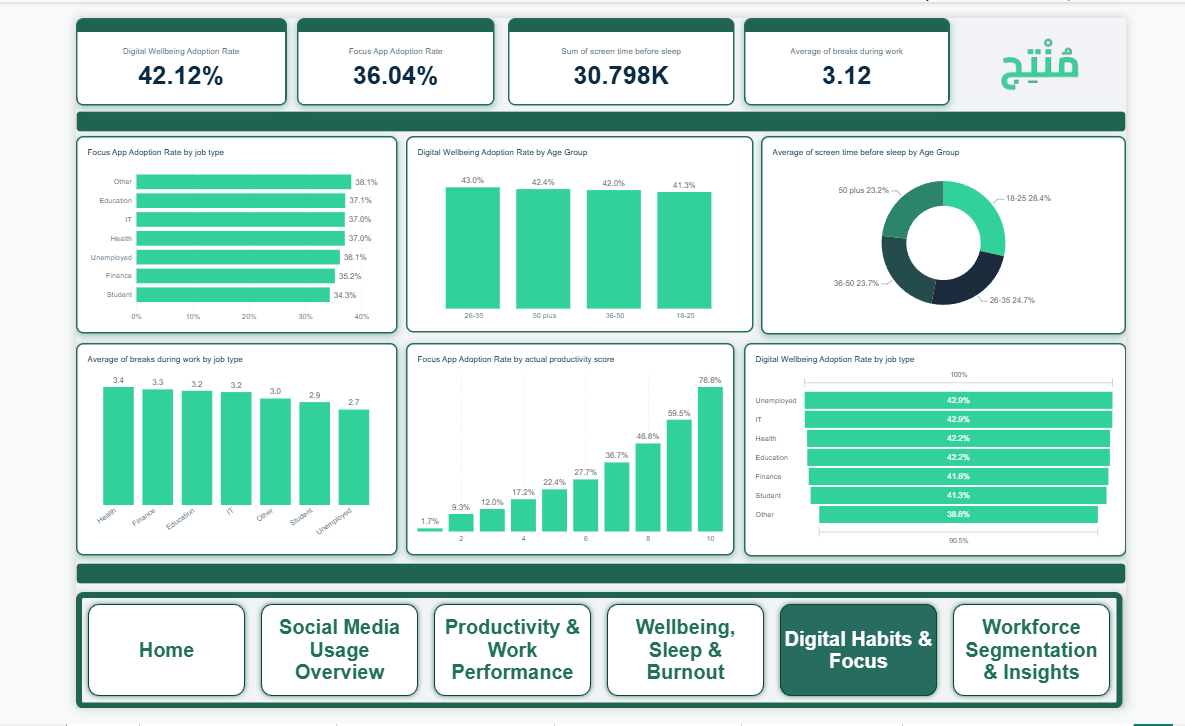

The page's visual inventory and layout, read from the dashboard file:
{"tool":"powerbi","page":{"name":"Digital Habits & Focus","canvas":[2100,1380],"ordinal":4},"visuals":[{"type":"shape","box":[0,186,2100,38],"z":0},{"type":"shape","box":[0,1090,2100,14],"z":1000},{"type":"cardVisual","fields":{"Data":["Measures (2).Digital Wellbeing Adoption Rate"]},"box":[0,0,421.7,175],"z":2000},{"type":"cardVisual","fields":{"Data":["Measures (2).Focus App Adoption Rate"]},"box":[441.7,0,395,175],"z":3000},{"type":"cardVisual","fields":{"Data":["Sum(Productivity.screen time before sleep)"]},"box":[863.3,0,453.3,175],"z":4000},{"type":"cardVisual","fields":{"Data":["Avg(Productivity.breaks during work)"]},"box":[1335,0,411.7,175],"z":5000},{"type":"clusteredBarChart","fields":{"Category":["Productivity.job_type"],"Y":["Measures (2).Focus App Adoption Rate"]},"box":[0,235,642.5,395],"z":6000},{"type":"columnChart","fields":{"Category":["Productivity.Age Group"],"Y":["Measures (2).Digital Wellbeing Adoption Rate"]},"box":[660,236.7,695,393.3],"z":7000},{"type":"donutChart","fields":{"Category":["Productivity.Age Group"],"Y":["Avg(Productivity.screen time before sleep)"]},"box":[1370,236.7,730,396.7],"z":8000},{"type":"clusteredColumnChart","fields":{"Category":["Productivity.job_type"],"Y":["Avg(Productivity.breaks during work)"]},"box":[0,650,642.5,425],"z":9000},{"type":"clusteredColumnChart","fields":{"Category":["Productivity.actual productivity score"],"Y":["myMeasures.Focus App Adoption Rate"]},"box":[660,650,656.7,425],"z":10000},{"type":"funnel","fields":{"Category":["Productivity.job type"],"Y":["myMeasures.Digital Wellbeing Adoption Rate"]},"box":[1335,650,765,426.7],"z":11000},{"type":"image","box":[1747.5,7.5,352.5,167.5],"z":12000},{"type":"pageNavigator","box":[0,1147.5,2092.5,232.5],"z":13000}]}

Visuals, with their boxes on the page's 2100x1380 design canvas (x1, y1, x2, y2). These are canvas units, not pixel positions in the 1185x726 screenshot, which may show the page scaled, cropped or inside an application window:
shape: region(0, 186, 2100, 224)
shape: region(0, 1090, 2100, 1104)
cardVisual - Measures (2).Digital Wellbeing Adoption Rate: region(0, 0, 422, 175)
cardVisual - Measures (2).Focus App Adoption Rate: region(442, 0, 837, 175)
cardVisual - Sum(Productivity.screen time before sleep): region(863, 0, 1317, 175)
cardVisual - Avg(Productivity.breaks during work): region(1335, 0, 1747, 175)
clusteredBarChart - Productivity.job_type x Measures (2).Focus App Adoption Rate: region(0, 235, 642, 630)
columnChart - Productivity.Age Group x Measures (2).Digital Wellbeing Adoption Rate: region(660, 237, 1355, 630)
donutChart - Productivity.Age Group x Avg(Productivity.screen time before sleep): region(1370, 237, 2100, 633)
clusteredColumnChart - Productivity.job_type x Avg(Productivity.breaks during work): region(0, 650, 642, 1075)
clusteredColumnChart - Productivity.actual productivity score x myMeasures.Focus App Adoption Rate: region(660, 650, 1317, 1075)
funnel - Productivity.job type x myMeasures.Digital Wellbeing Adoption Rate: region(1335, 650, 2100, 1077)
image: region(1748, 8, 2100, 175)
pageNavigator: region(0, 1148, 2092, 1380)
